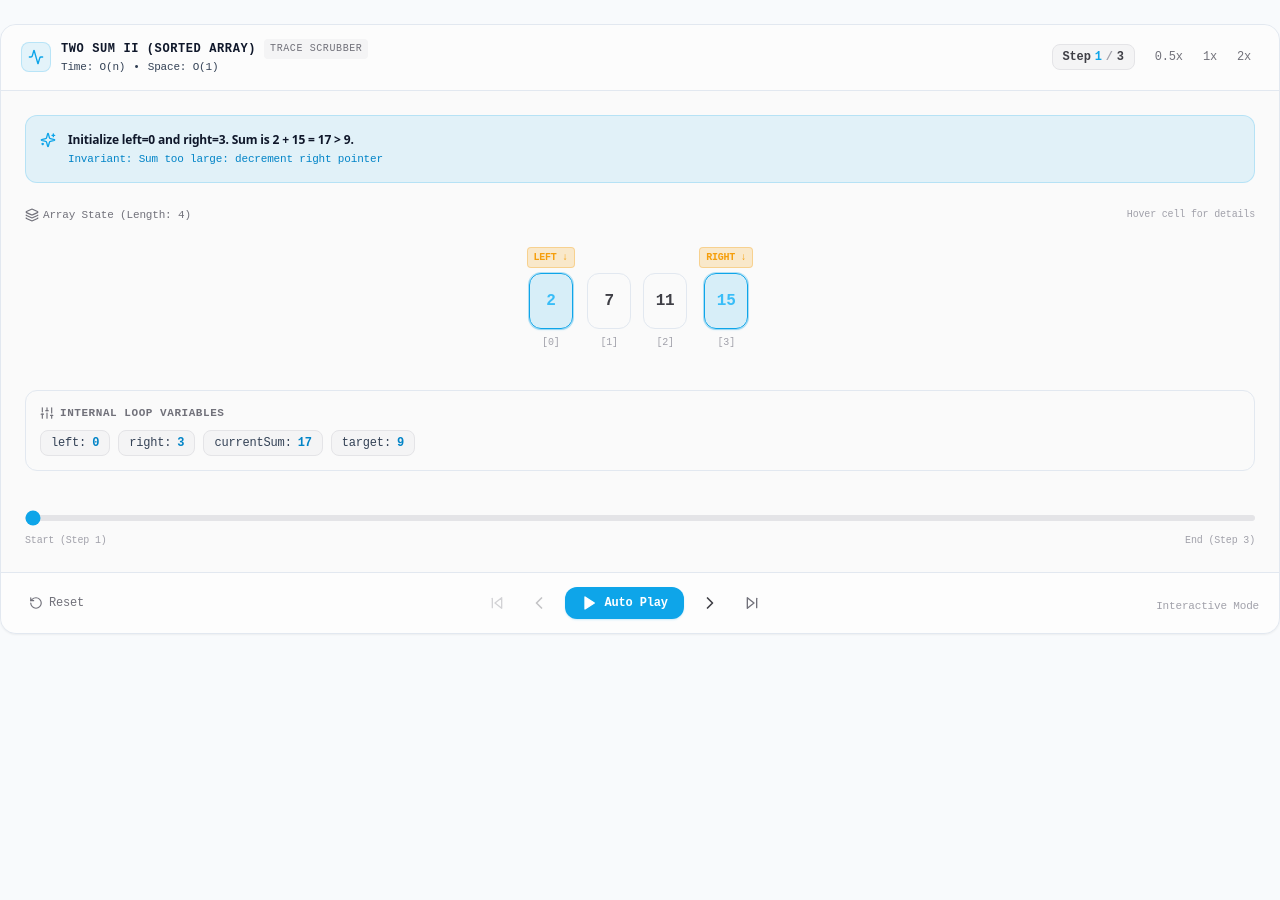
Test case: AlgorithmTraceScrubber Component › navigates forward on Next Step click and displays updated state
Step 1. Click the button titled "Next Step" → {"x": 710, "y": 602}, box [692, 584, 728, 620]
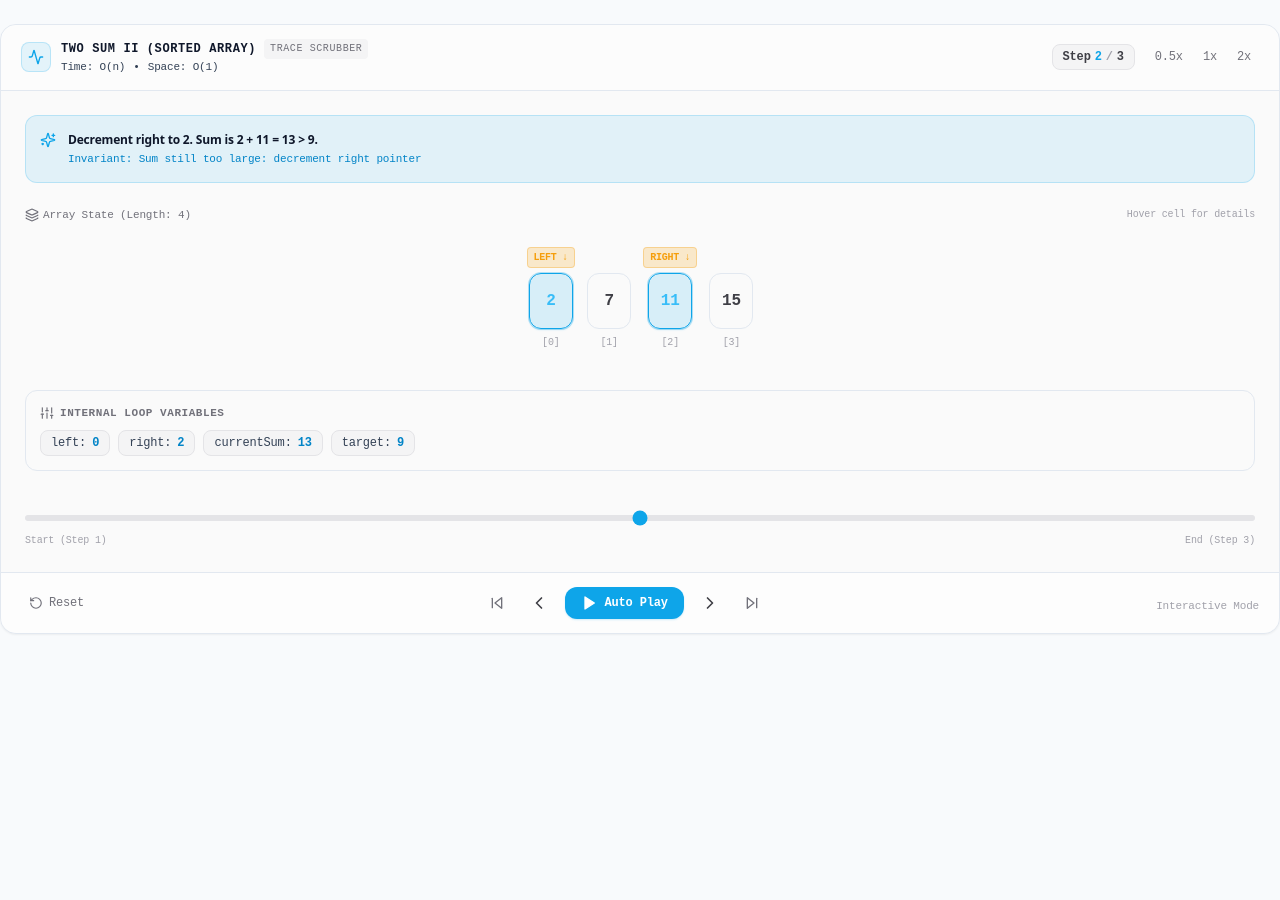
Expected: the text "Decrement right to 2. Sum is 2 + 11 = 13 > 9." is shown, [68, 130, 318, 148]
Expected: the text "Invariant: Sum still too large: decrement right pointer" is shown, [68, 151, 421, 168]
